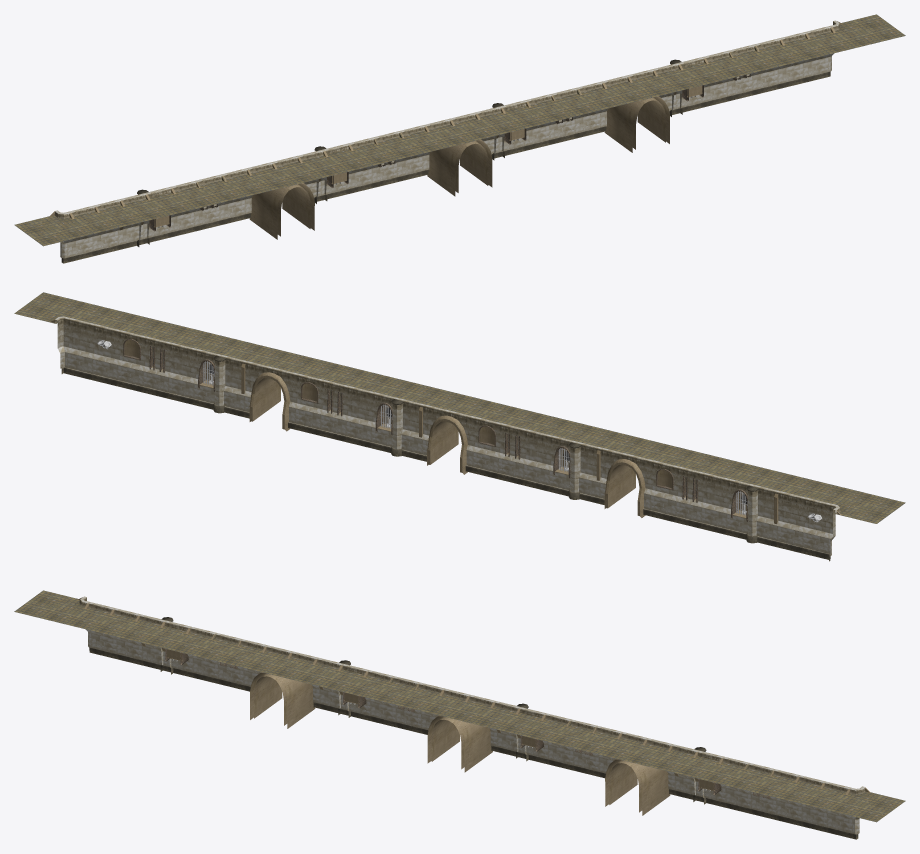
Rendered from WallFrame2.gltf.
3 views of the same model, one above another, from view 1: azimuth 30°, elevation 25°; view 2: azimuth 150°, elevation 25°; view 3: azimuth 330°, elevation 25° (orthographic).
Parts seen in each view (by area): view 1: caslte-wall-w-gate-big, top-plane.003, top-plane.001, top-plane.002, castle-edge-1.001; view 2: caslte-wall-w-gate-big, top-plane.003, castle-edge-1.002, top-plane.001, top-plane.002, castle-edge-1.001; view 3: caslte-wall-w-gate-big, top-plane.003, top-plane.002, top-plane.001, castle-edge-1.002.
Part boxes in pixels (left/top/right/bottom): caslte-wall-w-gate-big: left=66, top=26, right=840, bottom=262; top-plane.003: left=54, top=31, right=879, bottom=239; top-plane.001: left=14, top=218, right=68, bottom=246; top-plane.002: left=851, top=14, right=905, bottom=41; castle-edge-1.001: left=40, top=210, right=78, bottom=263; caslte-wall-w-gate-big: left=66, top=315, right=840, bottom=559; top-plane.003: left=54, top=298, right=880, bottom=507; castle-edge-1.002: left=39, top=309, right=78, bottom=373; top-plane.001: left=852, top=496, right=905, bottom=523; top-plane.002: left=14, top=292, right=68, bottom=319; castle-edge-1.001: left=827, top=501, right=865, bottom=561; caslte-wall-w-gate-big: left=79, top=602, right=853, bottom=838; top-plane.003: left=40, top=607, right=865, bottom=815; top-plane.002: left=851, top=794, right=905, bottom=822; top-plane.001: left=14, top=590, right=68, bottom=617; castle-edge-1.002: left=841, top=786, right=879, bottom=839.
Bounding box in the file's own units: 68 × 4.19 × 4.1.
